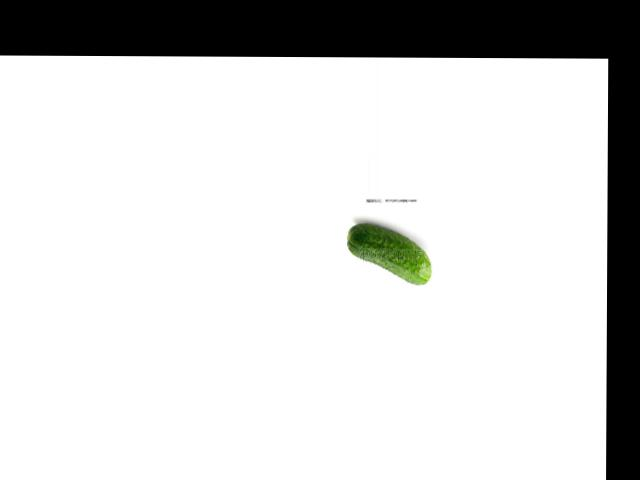cucumber: (346, 222, 431, 285)
